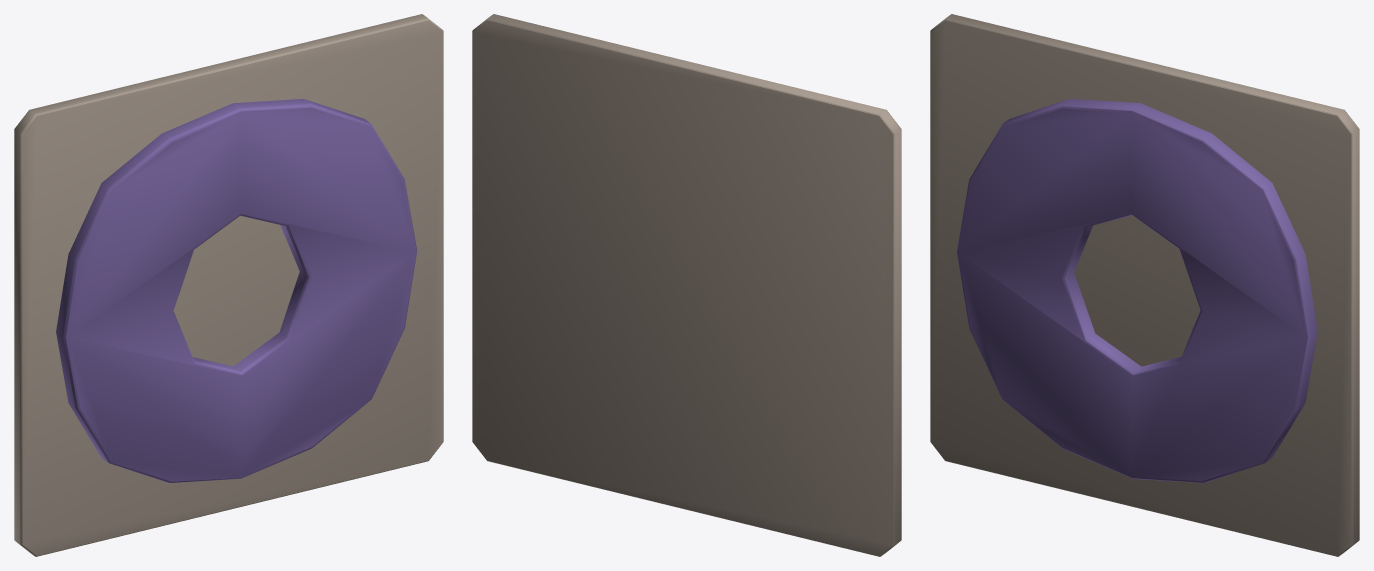
File: clay-mark-clay-mesh.obj
The picture shows the model from 3 angles, left to right: view 1: azimuth 30°, elevation 25°; view 2: azimuth 150°, elevation 25°; view 3: azimuth 330°, elevation 25°; orthographic projection.
Visible parts, largest first — view 1: relief_backing, logo_1; view 2: relief_backing; view 3: relief_backing, logo_1.
Boxes of the visible parts, <box> form: relief_backing: <box>14,14,443,556</box>; logo_1: <box>56,99,417,482</box>; relief_backing: <box>472,14,901,556</box>; relief_backing: <box>930,14,1359,556</box>; logo_1: <box>956,99,1317,483</box>.
Size of the model in its own units: 1.81 by 1.81 by 0.1243.
